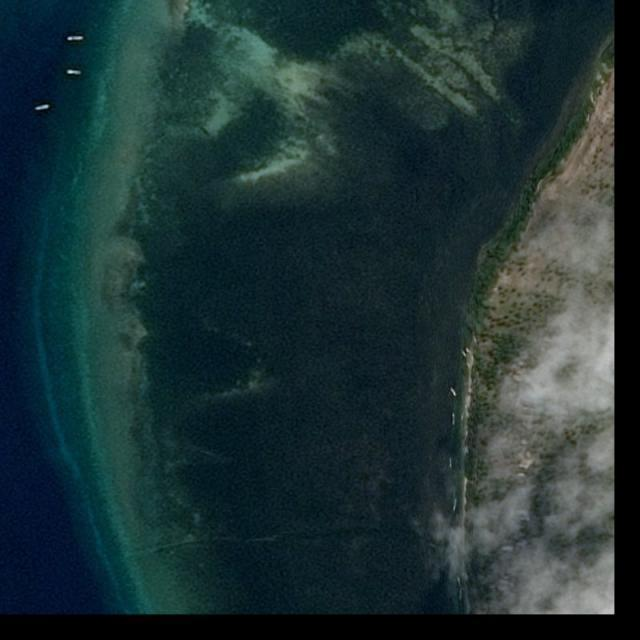ship: (66, 68, 82, 78), (35, 104, 50, 114), (67, 37, 85, 42)
